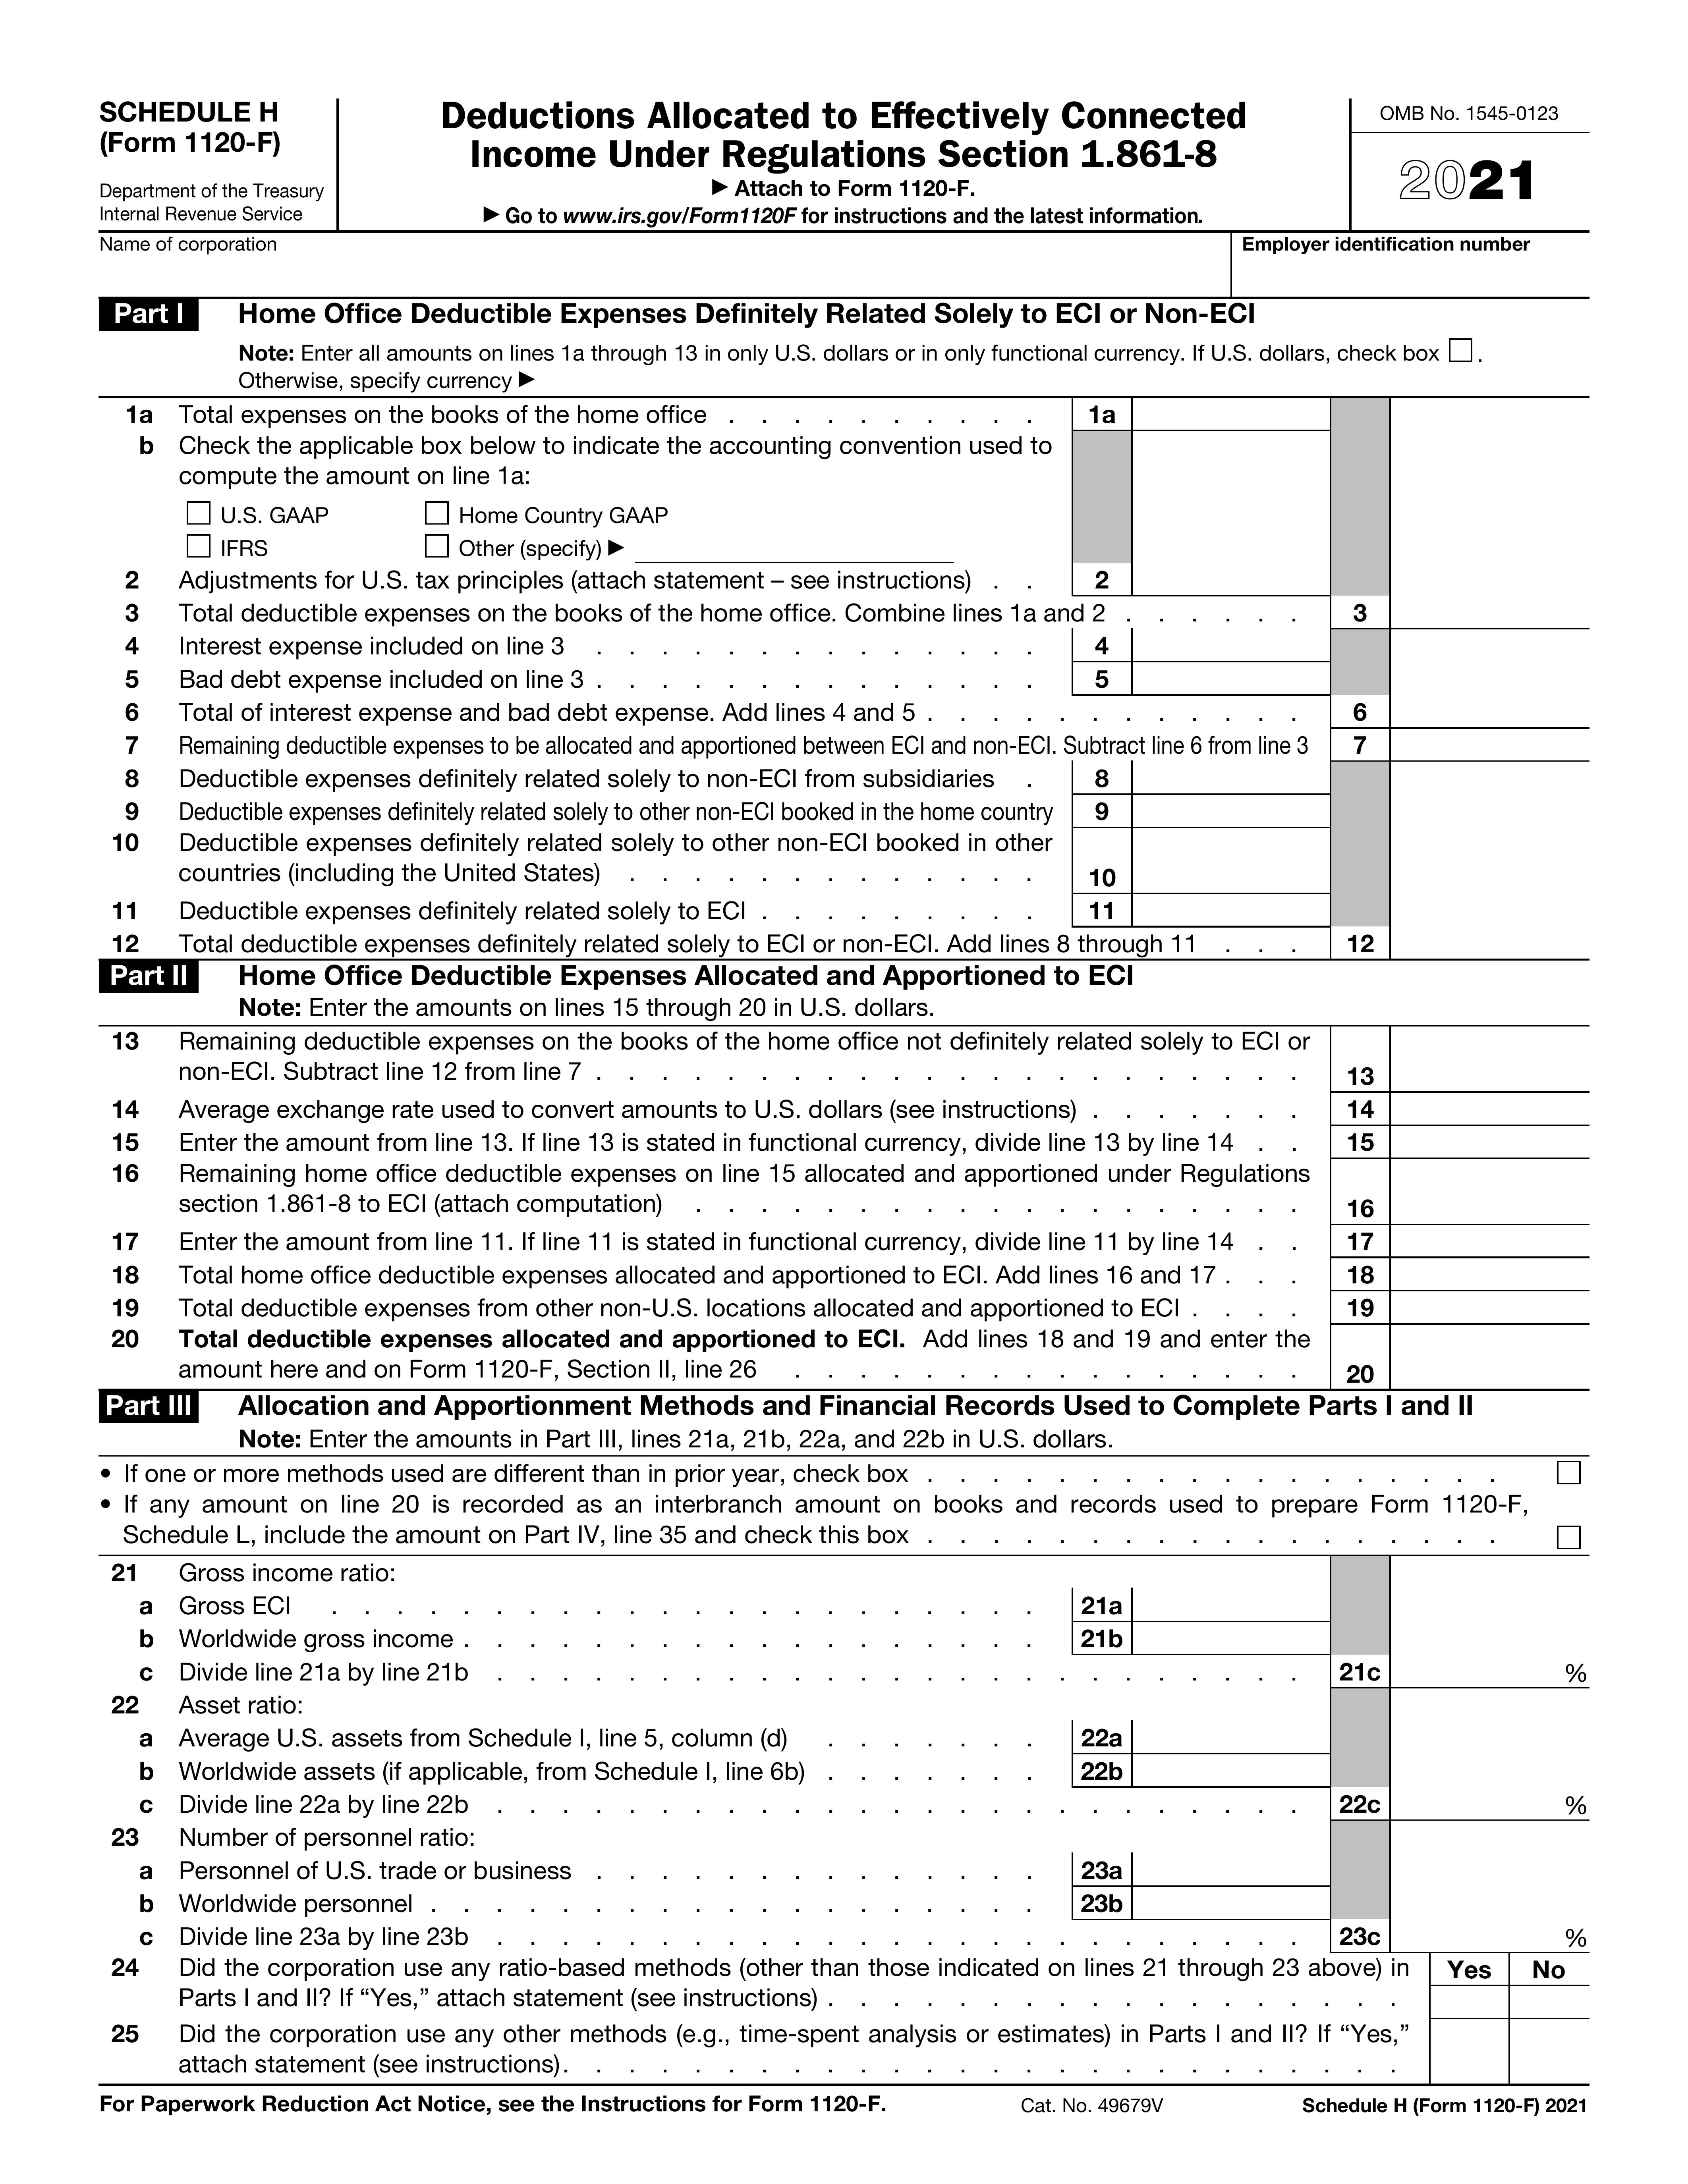form: (85, 83, 1594, 300)
table: (78, 399, 1631, 1399), (76, 1553, 1615, 2088)
